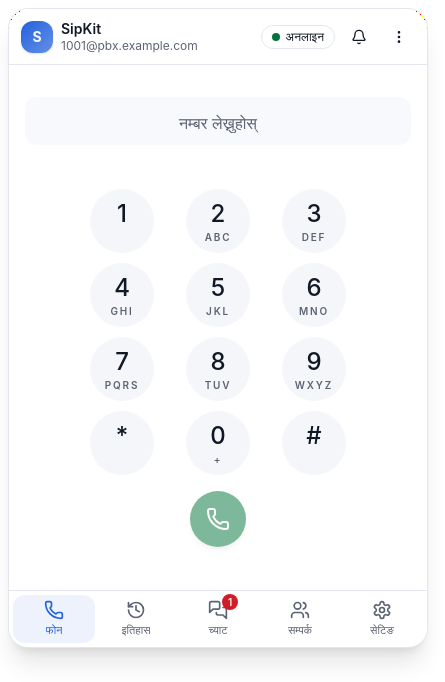
Test: Chat tab › renders in Nepali
This screenshot has width=445, height=682.
Click the tab "1 च्याट" at (218, 619), box x1=177 y1=595 x2=259 y2=643
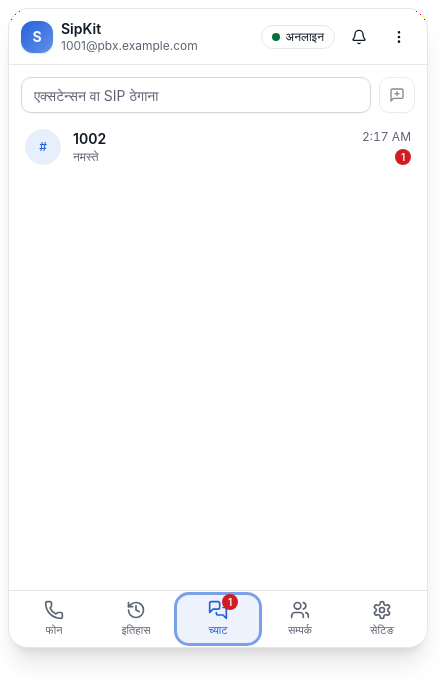
Result: the field named "कोसँग कुराकानी सुरु गर्ने" is shown at x1=21 y1=77 x2=371 y2=113
